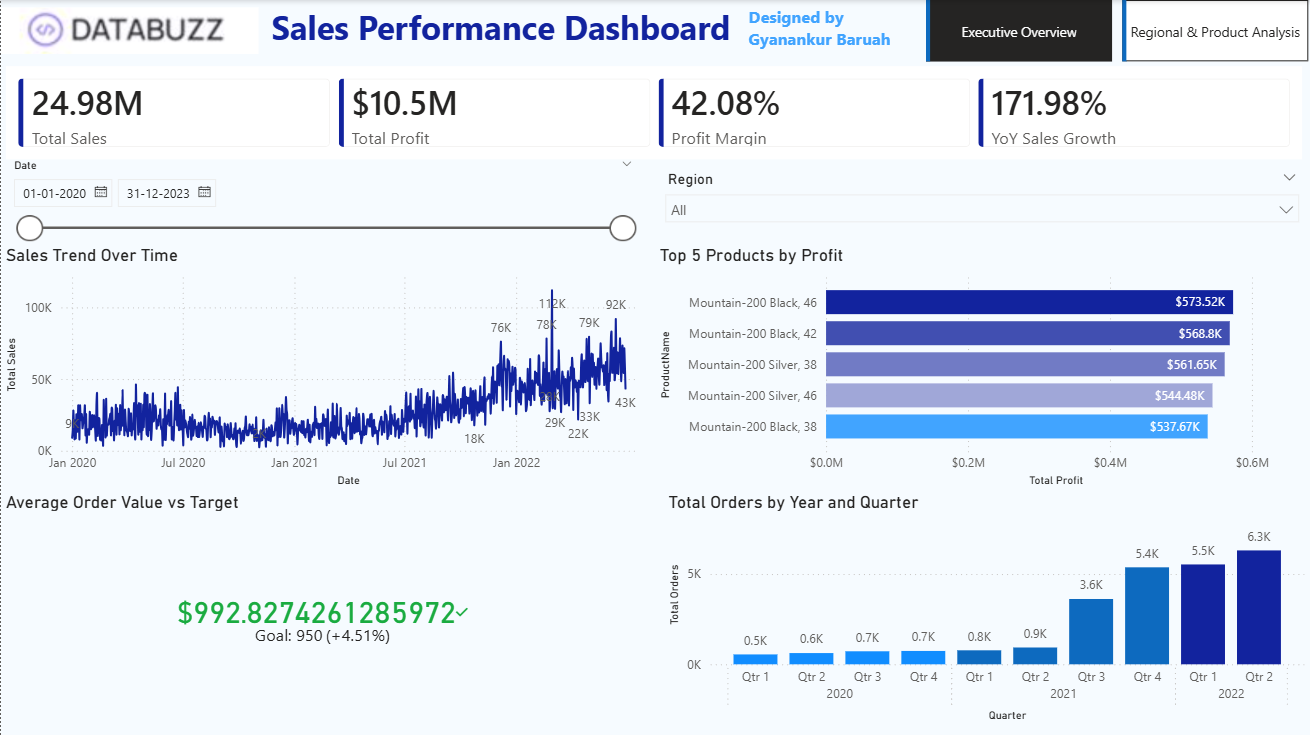

This screenshot's page, from the dashboard's own definition file:
{"tool":"powerbi","page":{"name":"Executive Overview","canvas":[1280,720],"ordinal":0},"visuals":[{"type":"textbox","box":[252.2,0,474.3,56.2],"z":0},{"type":"cardVisual","fields":{"Data":["Measures (2).Total Sales","Measures (2).Total Profit","Measures (2).Profit Margin","Measures (2).YoY Sales Growth"]},"box":[0,59.9,1280.3,101.5],"z":1},{"type":"lineChart","title":"Sales Trend Over Time","fields":{"Category":["Dim_Calendar.Date"],"Y":["Measures (2).Total Sales"]},"box":[0,239.9,640.1,241.3],"z":2},{"type":"clusteredBarChart","title":"Top 5 Products by Profit","fields":{"Category":["Dim_Product.ProductName"],"Y":["Measures (2).Total Profit"]},"box":[640.1,239.9,640.1,241.3],"z":3},{"type":"kpi","title":"Average Order Value vs Target","fields":{"Goal":["Measures (2).AOV Target"],"Indicator":["Measures (2).AOV KPI"],"TrendLine":["Dim_Calendar.Date"]},"box":[0,481.1,629.2,238.5],"z":4},{"type":"clusteredColumnChart","fields":{"Y":["Measures (2).Total Orders"],"Category":["Fact_Sales.OrderDate.Variation.Date Hierarchy.Year","Fact_Sales.OrderDate.Variation.Date Hierarchy.Quarter"]},"box":[648.4,481.1,631.9,230.3],"z":5},{"type":"slicer","fields":{"Values":["Dim_Calendar.Date"]},"box":[0,150.4,629.8,89.3],"z":6},{"type":"slicer","fields":{"Values":["Dim_Territory.Region"]},"box":[640.1,161.7,640.1,67.2],"z":7},{"type":"pageNavigator","box":[904.7,0,375.6,60.3],"z":8},{"type":"image","box":[0,0,251.9,59.9],"z":9},{"type":"textbox","box":[726.5,0,178.2,72.6],"z":10}]}

Visuals, with their boxes in screenshot pixels (x1, y1, x2, y2), scaled from the page's 1280x720 canvas onto the 1310x735 screenshot:
textbox: 258/0/744/57
cardVisual - Measures (2).Total Sales x Measures (2).Total Profit: 0/61/1309/165
"Sales Trend Over Time" lineChart: 0/245/655/491
"Top 5 Products by Profit" clusteredBarChart: 655/245/1309/491
"Average Order Value vs Target" kpi: 0/491/644/734
clusteredColumnChart - Measures (2).Total Orders x Fact_Sales.OrderDate.Variation.Date Hierarchy.Year: 664/491/1309/726
slicer - Dim_Calendar.Date: 0/154/645/245
slicer - Dim_Territory.Region: 655/165/1309/234
pageNavigator: 926/0/1309/62
image: 0/0/258/61
textbox: 744/0/926/74
